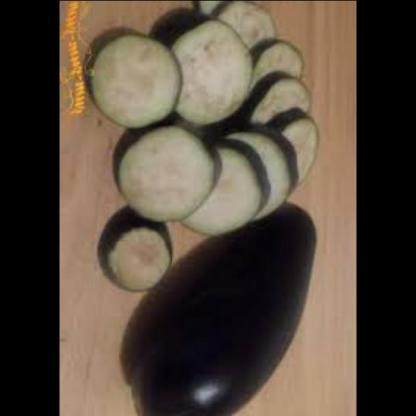eggplant: (86, 1, 326, 274), (118, 209, 330, 414)
